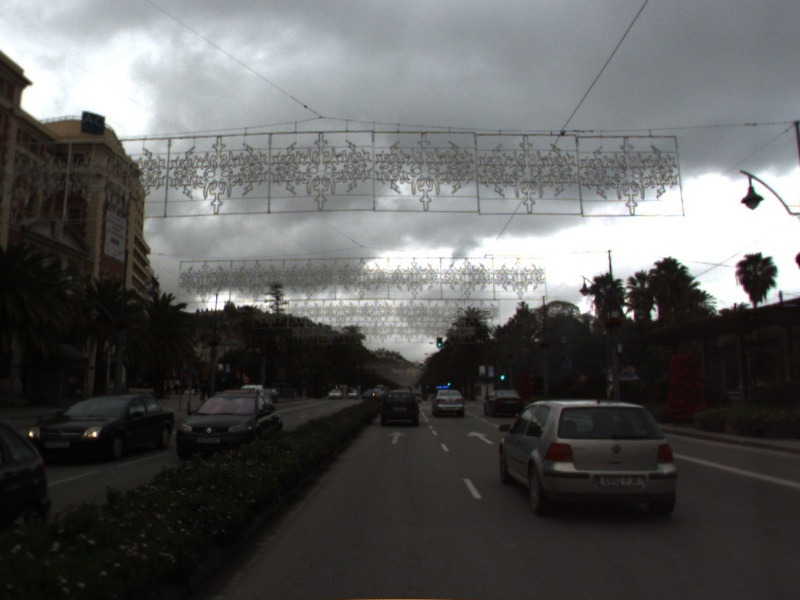STRAIGHT: (465, 429, 496, 446), (385, 429, 409, 446)
